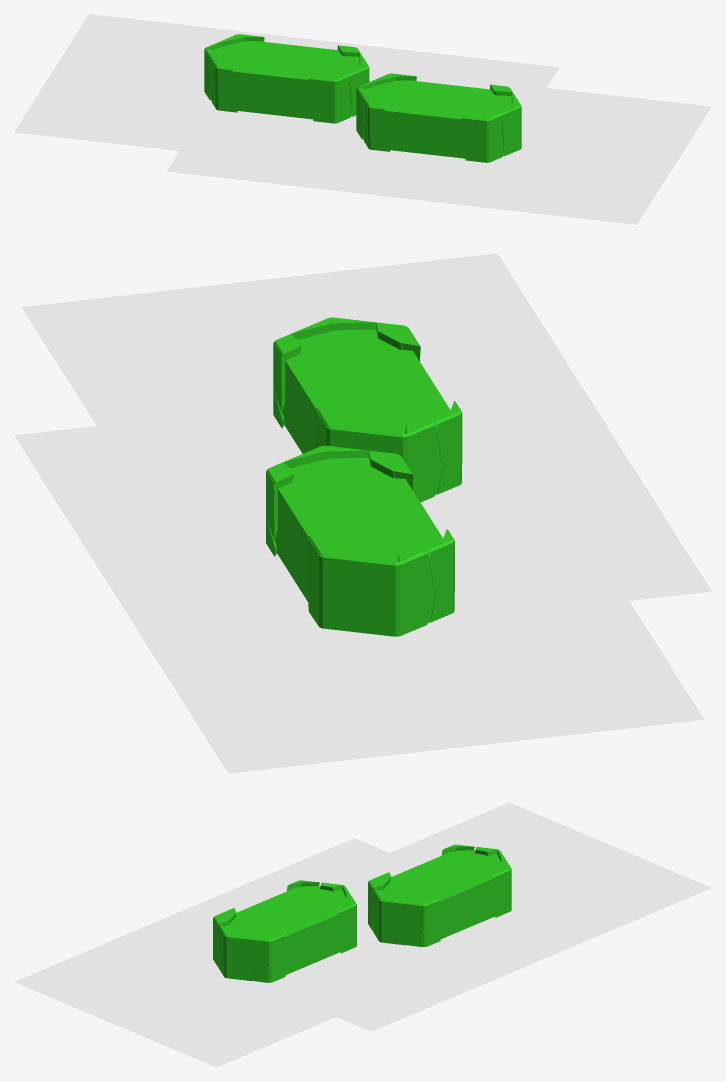
Rendered from Obstacles2.fbx.
The picture shows the model from 3 angles, top to bottom: view 1: azimuth 30°, elevation 25°; view 2: azimuth 150°, elevation 25°; view 3: azimuth 270°, elevation 25°; orthographic projection. The views are drawn at different scales.
Visible parts, largest first — view 1: Shadow (×2), Model (×2), HexGib09 (×2), HexGib01 (×2), HexGib06 (×2), HexGib05 (×2), HexGib04 (×2); view 2: Shadow (×2), Model (×2), HexGib04 (×2), HexGib05 (×2), HexGib06 (×2), HexGib02 (×2), HexGib01 (×2), HexGib09 (×2); view 3: Shadow (×2), Model (×2), HexGib01 (×2), HexGib04 (×2), HexGib02 (×2), HexGib09 (×2).
Boxes of the visible parts, bbox=[...] form: Shadow (×2): bbox=[14, 14, 711, 224]; Model (×2): bbox=[211, 41, 511, 158]; HexGib09 (×2): bbox=[308, 72, 502, 162]; HexGib01 (×2): bbox=[348, 53, 521, 155]; HexGib06 (×2): bbox=[210, 58, 390, 138]; HexGib05 (×2): bbox=[204, 48, 369, 139]; HexGib04 (×2): bbox=[205, 34, 416, 89]; Shadow (×2): bbox=[14, 253, 711, 773]; Model (×2): bbox=[275, 329, 456, 628]; HexGib04 (×2): bbox=[307, 407, 407, 636]; HexGib05 (×2): bbox=[398, 419, 441, 635]; HexGib06 (×2): bbox=[428, 401, 462, 592]; HexGib02 (×2): bbox=[266, 334, 301, 540]; HexGib01 (×2): bbox=[284, 317, 376, 468]; HexGib09 (×2): bbox=[369, 322, 420, 489]; Shadow (×2): bbox=[14, 802, 711, 1067]; Model (×2): bbox=[224, 850, 501, 982]; HexGib01 (×2): bbox=[217, 888, 412, 980]; HexGib04 (×2): bbox=[337, 849, 511, 953]; HexGib02 (×2): bbox=[256, 897, 439, 968]; HexGib09 (×2): bbox=[213, 872, 391, 966].
Bounding box in the file's own units: 4.46 × 0.3461 × 4.96.
